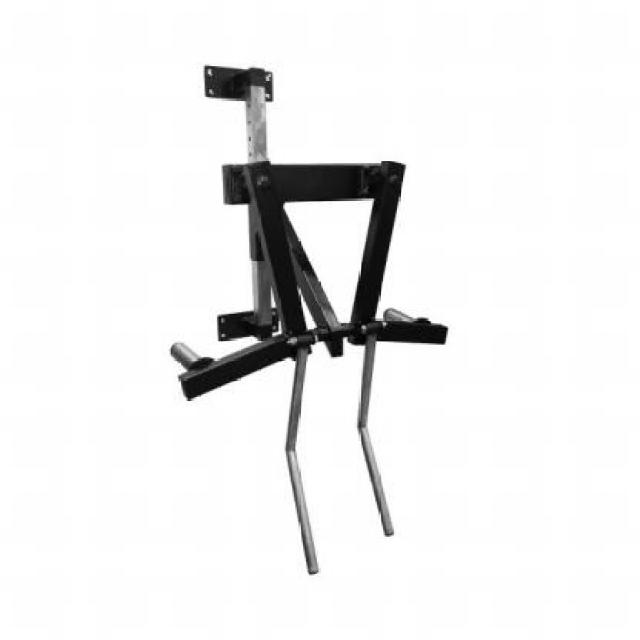lateral raises machine: (169, 64, 449, 582)
